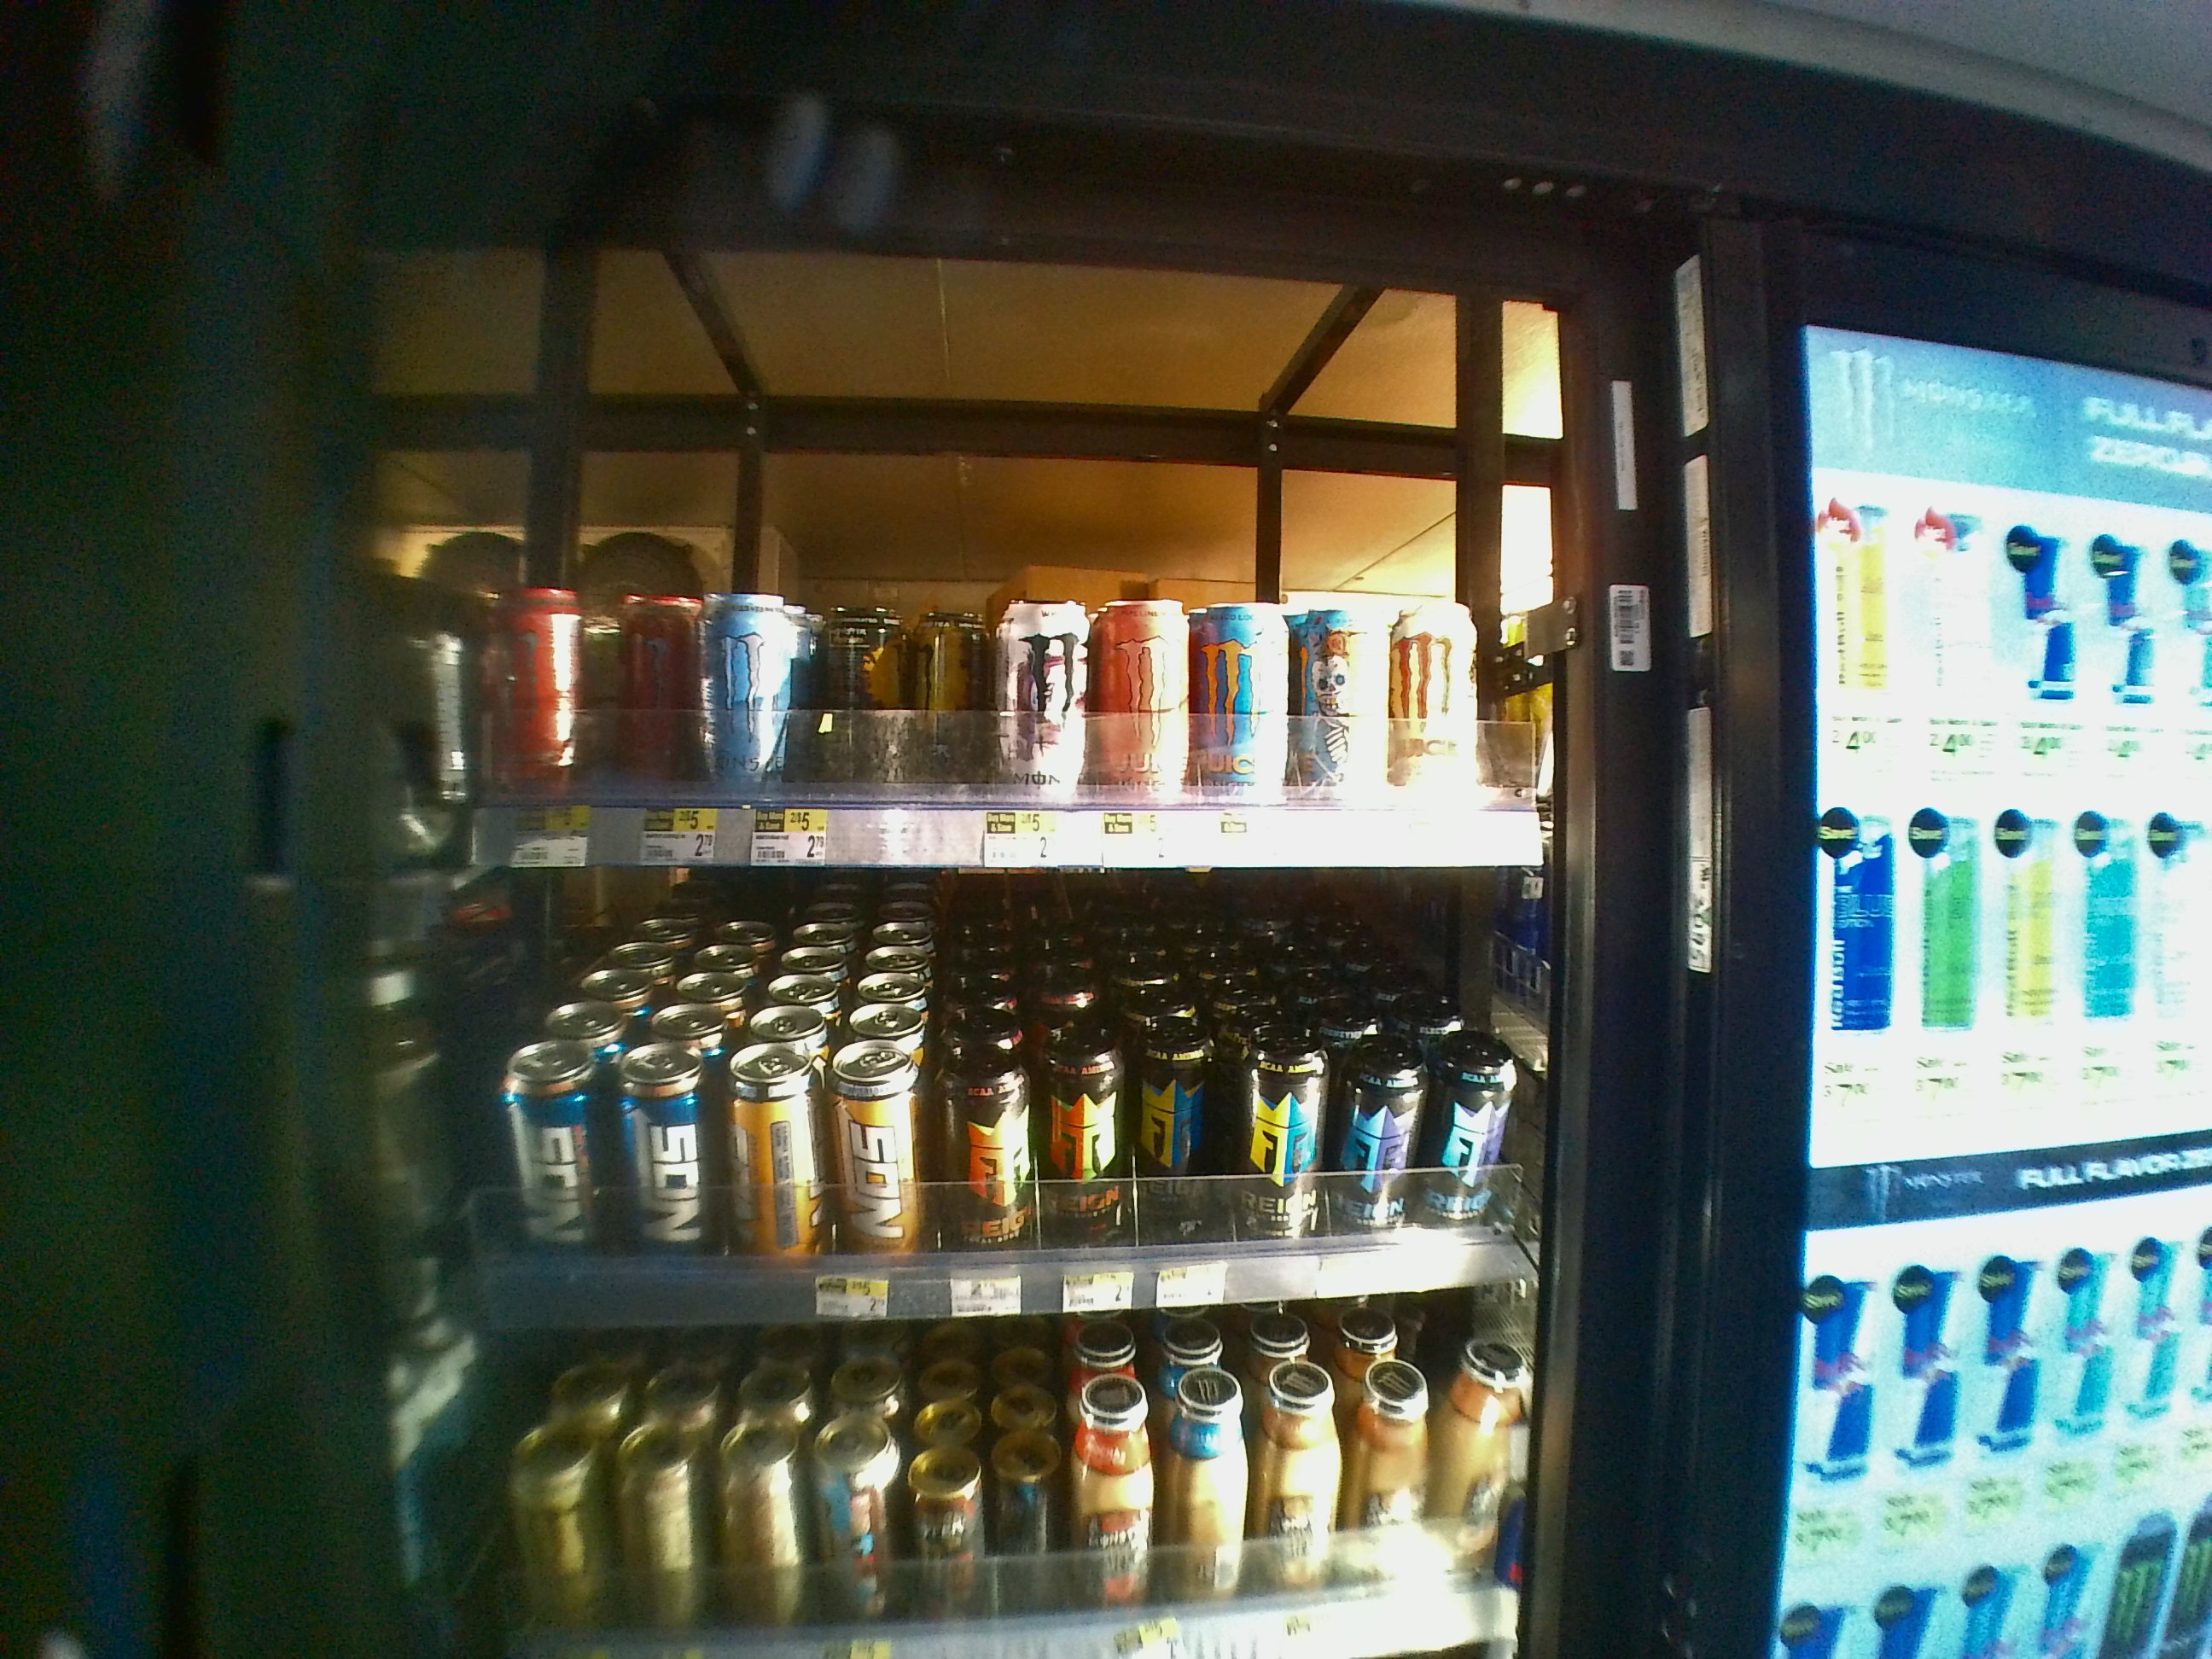shelf: (378, 251, 1581, 868), (369, 866, 1585, 1317)
